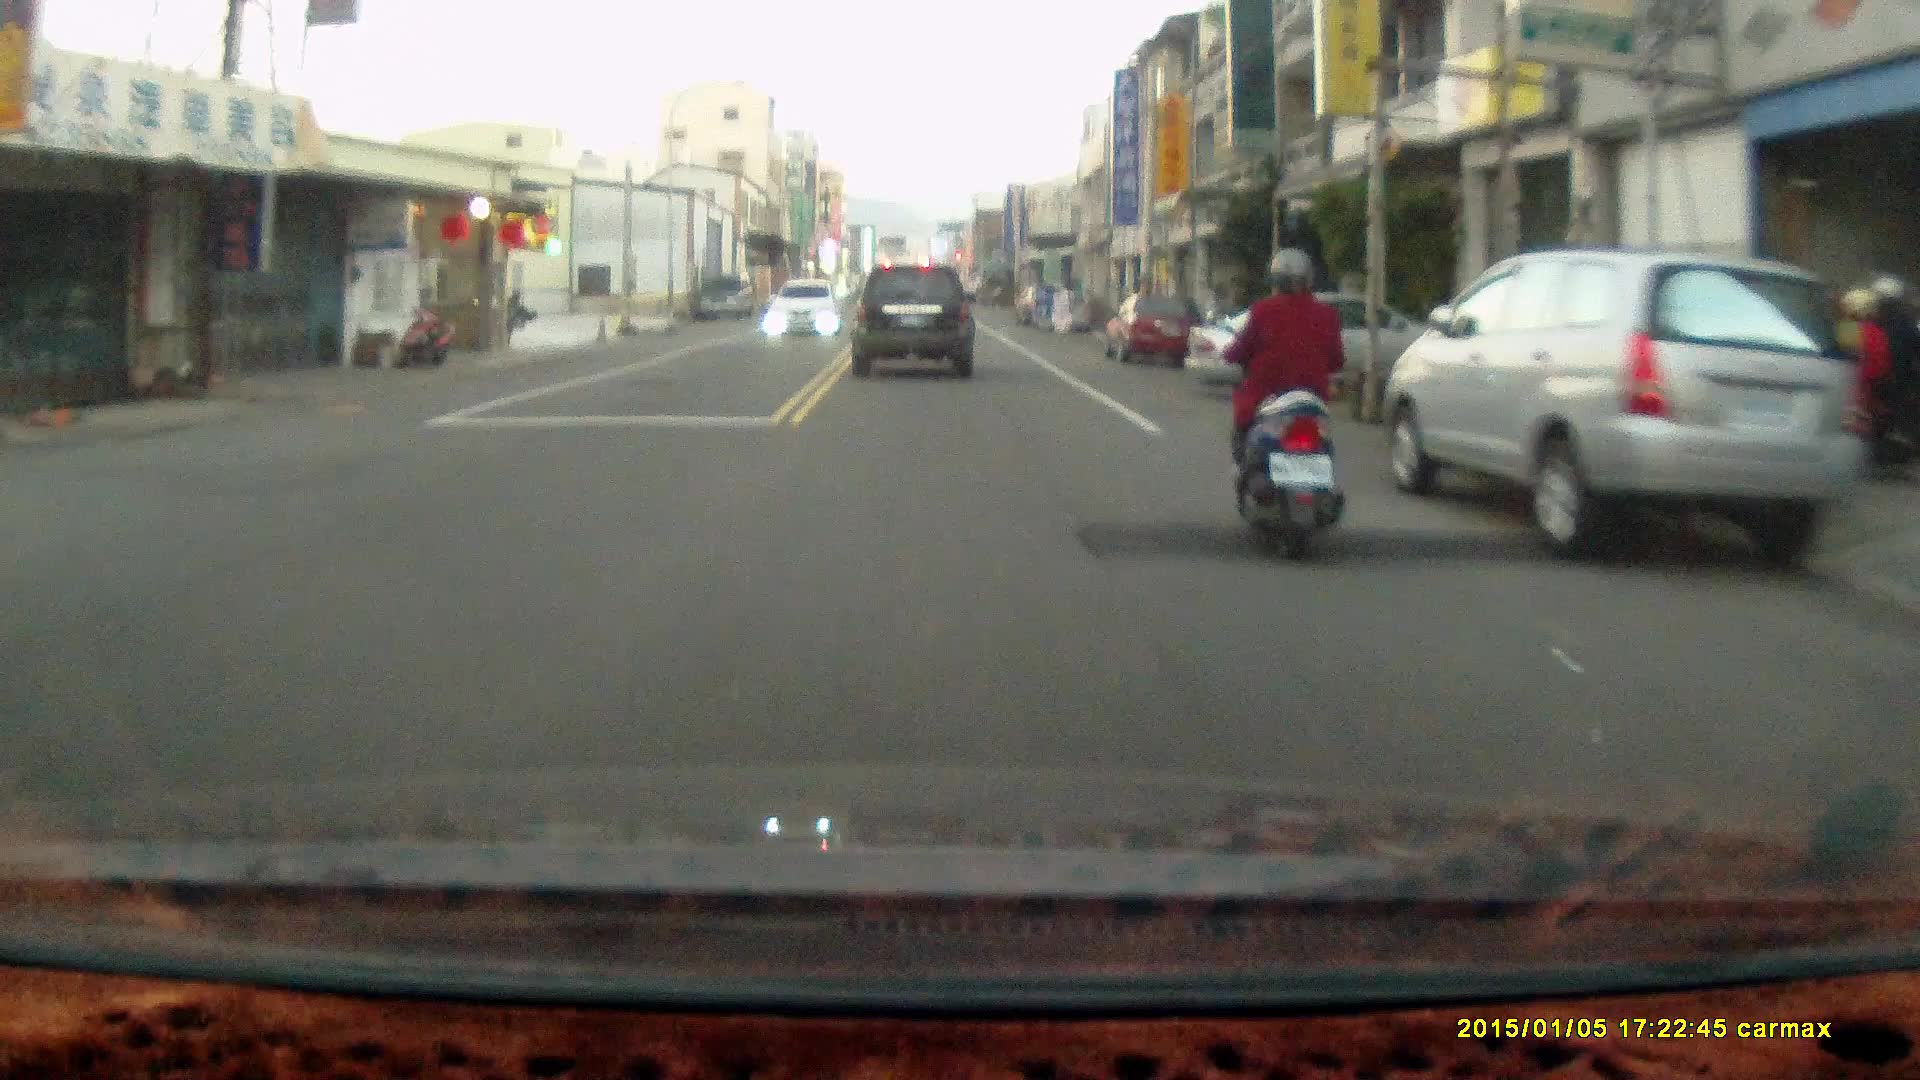rider: (1202, 247, 1347, 561), (1834, 278, 1916, 485)
vehicle: (1386, 251, 1874, 565), (1186, 294, 1426, 400), (851, 265, 981, 386), (1103, 292, 1204, 369), (766, 282, 842, 339), (697, 277, 756, 321)
